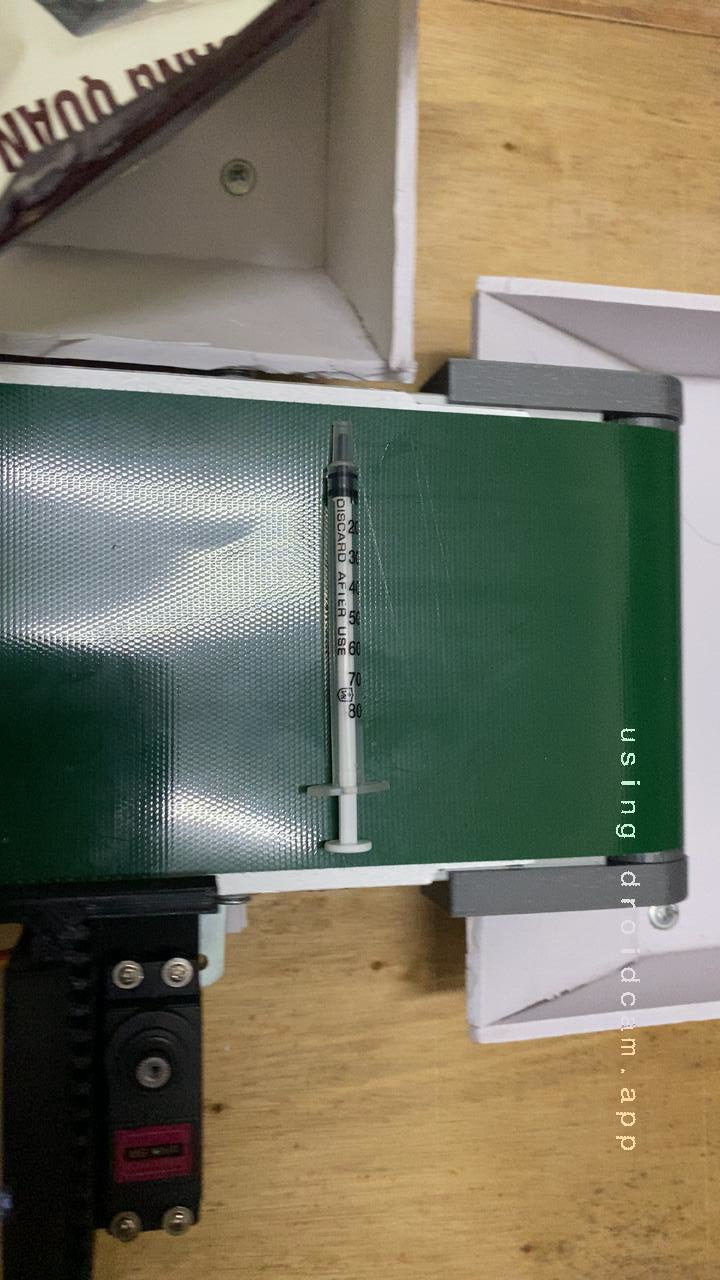syringe: (293, 648, 389, 873)
